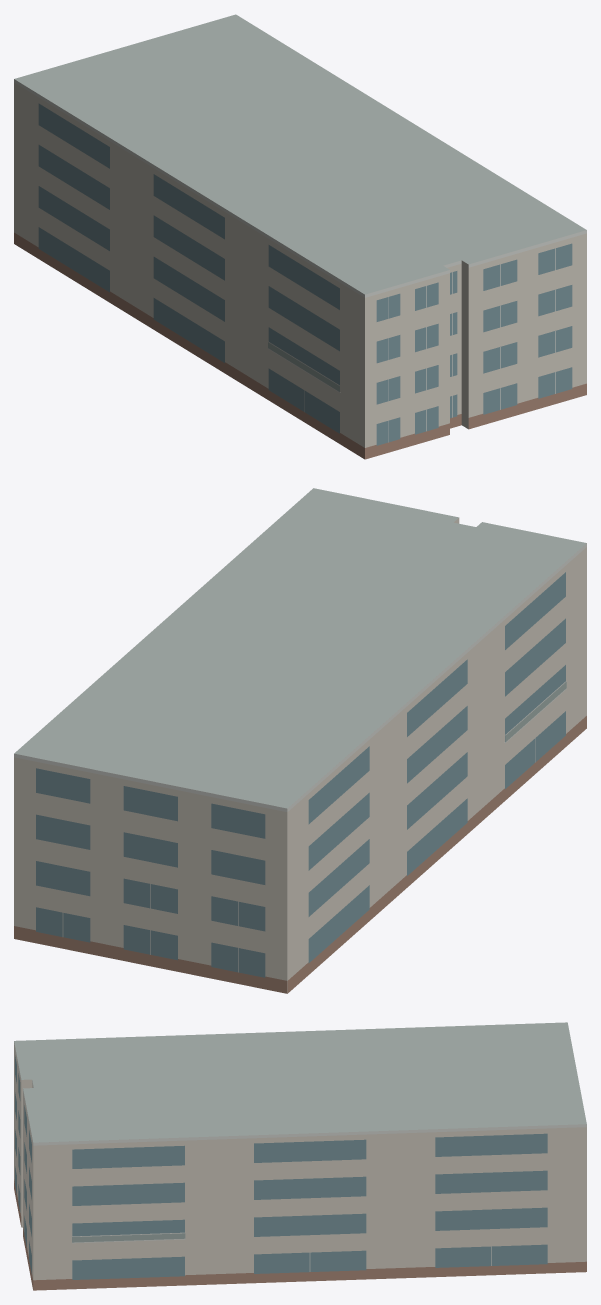
Rendered from survey-upis-32757103.glb.
The picture shows the model from 3 angles, top to bottom: view 1: azimuth 30°, elevation 25°; view 2: azimuth 150°, elevation 25°; view 3: azimuth 270°, elevation 25°; orthographic projection. The views are drawn at different scales.
Parts seen in each view (by area): view 1: survey-upis-32757103.tmp; view 2: survey-upis-32757103.tmp; view 3: survey-upis-32757103.tmp.
Boxes of the visible parts, <box> form: survey-upis-32757103.tmp: <box>14,14,586,459</box>; survey-upis-32757103.tmp: <box>14,488,586,993</box>; survey-upis-32757103.tmp: <box>14,1022,586,1290</box>.
Bounding box in the file's own units: 21.29 × 12.2 × 42.84.
